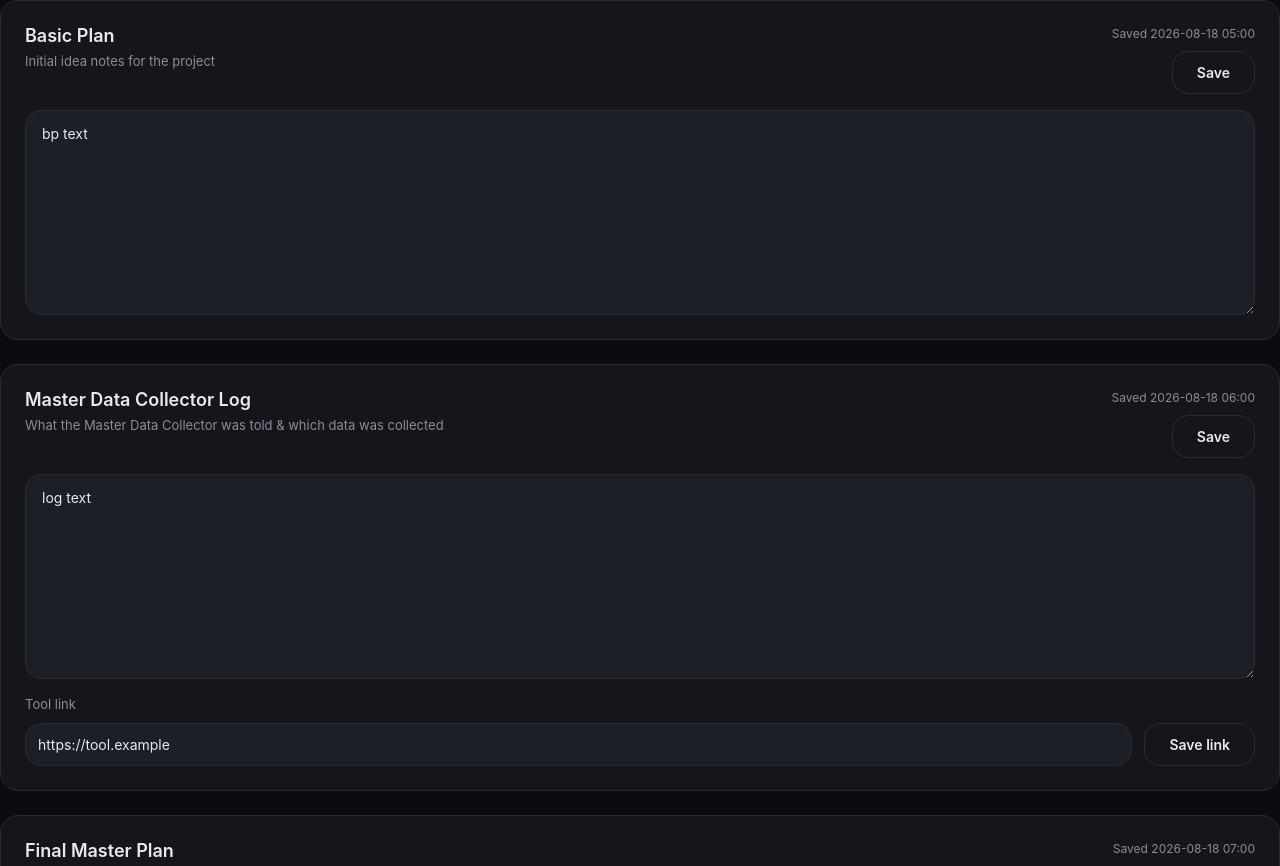
PlanTab — 4 sub-sections load/save › saves the tool link via PATCH (shares the log timestamp)
This screenshot has width=1280, height=866.
Replace the text in the field labelled "Tool link" with "  https://tool.new  " at (579, 744), box [25,723,1132,766]
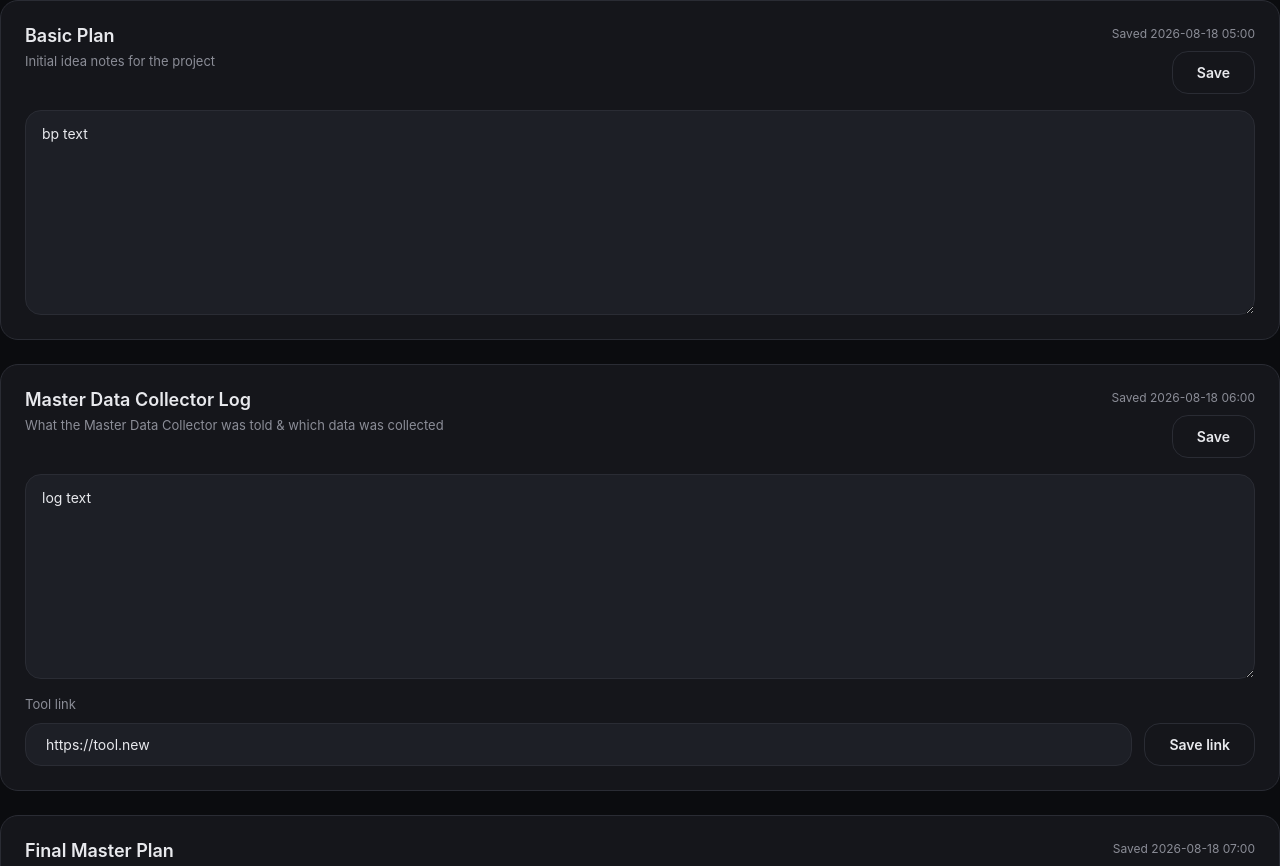
Click the button with test id "save-data_collector_log-link" at (1200, 744), box [1144,723,1255,766]
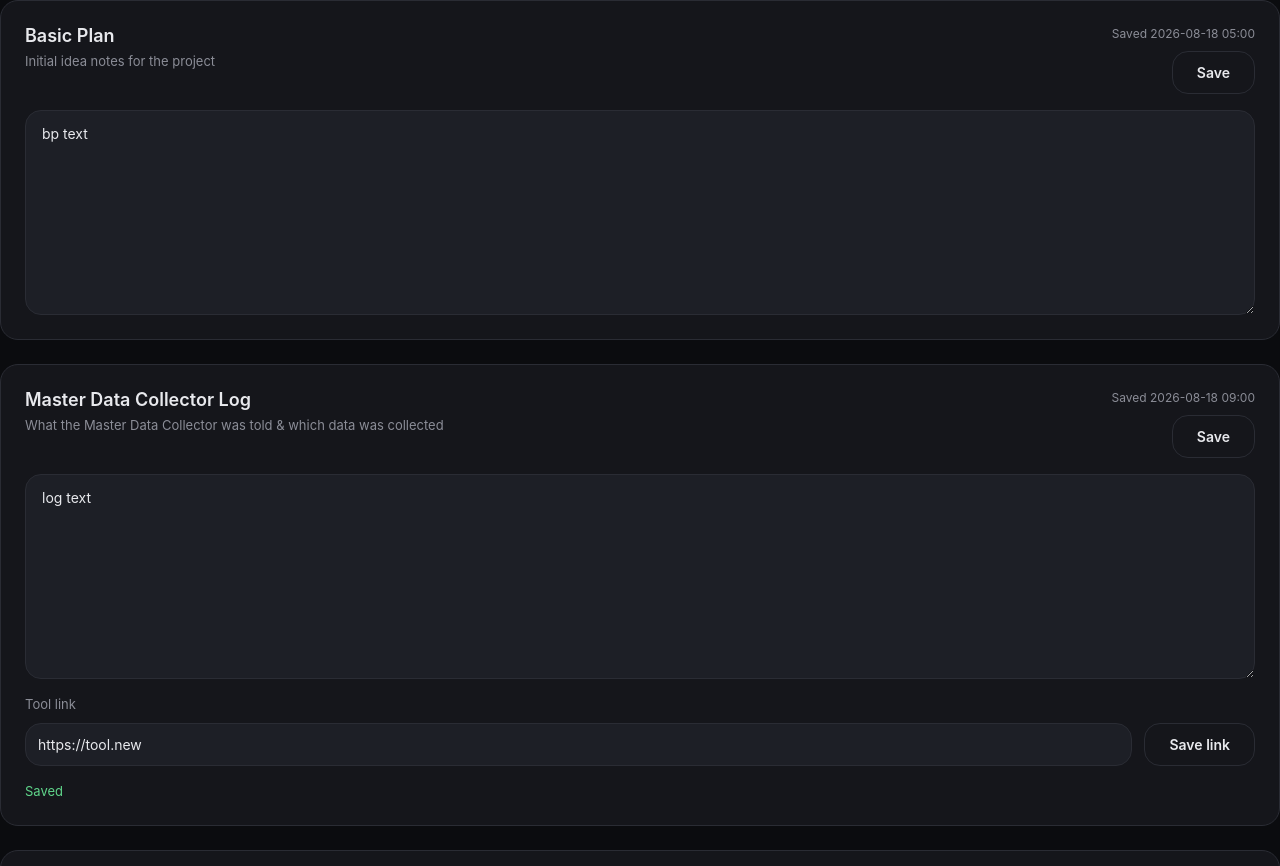
Now the text "Saved 2026-08-18 09:00" is shown, box [1112,389,1255,407]
